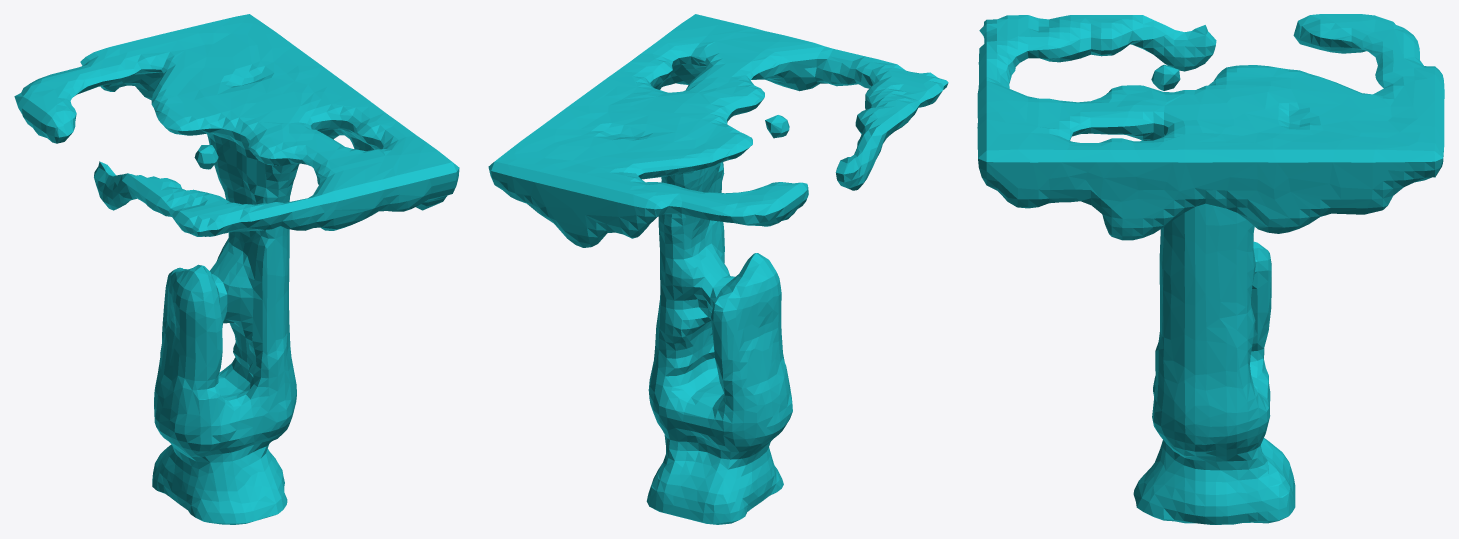
The picture shows the model from 3 angles, left to right: view 1: azimuth 30°, elevation 25°; view 2: azimuth 150°, elevation 25°; view 3: azimuth 270°, elevation 25°; orthographic projection. The views are drawn at different scales.
Parts seen in each view (by area): view 1: Liquid_Domain; view 2: Liquid_Domain; view 3: Liquid_Domain.
Part boxes in pixels (box(x1,y1,x2,y2)): Liquid_Domain: box(14, 14, 459, 524); Liquid_Domain: box(488, 14, 948, 524); Liquid_Domain: box(977, 14, 1444, 524).
Size of the model in its own units: 78.82 by 108 by 108.
